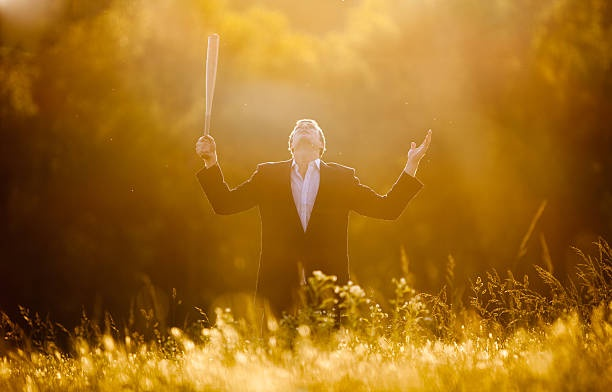bita: (196, 30, 221, 144)
